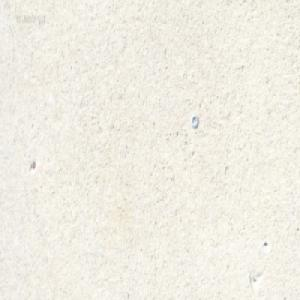Washer: (190, 114, 198, 129)
